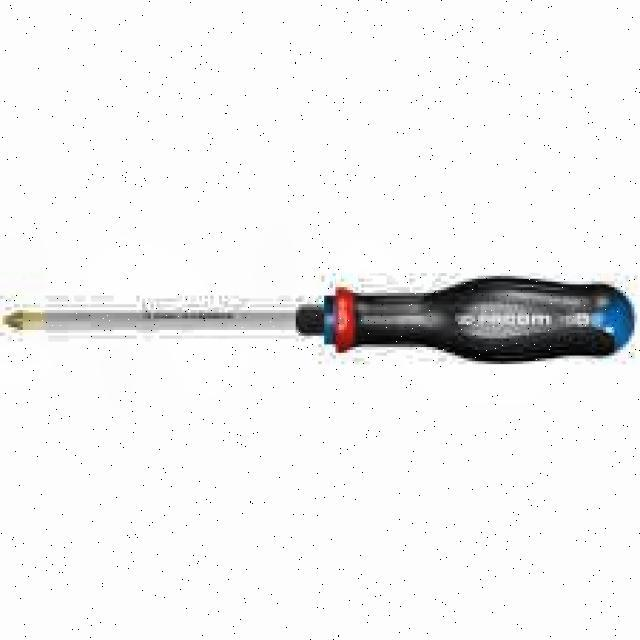screwdriver: (8, 278, 635, 363)
